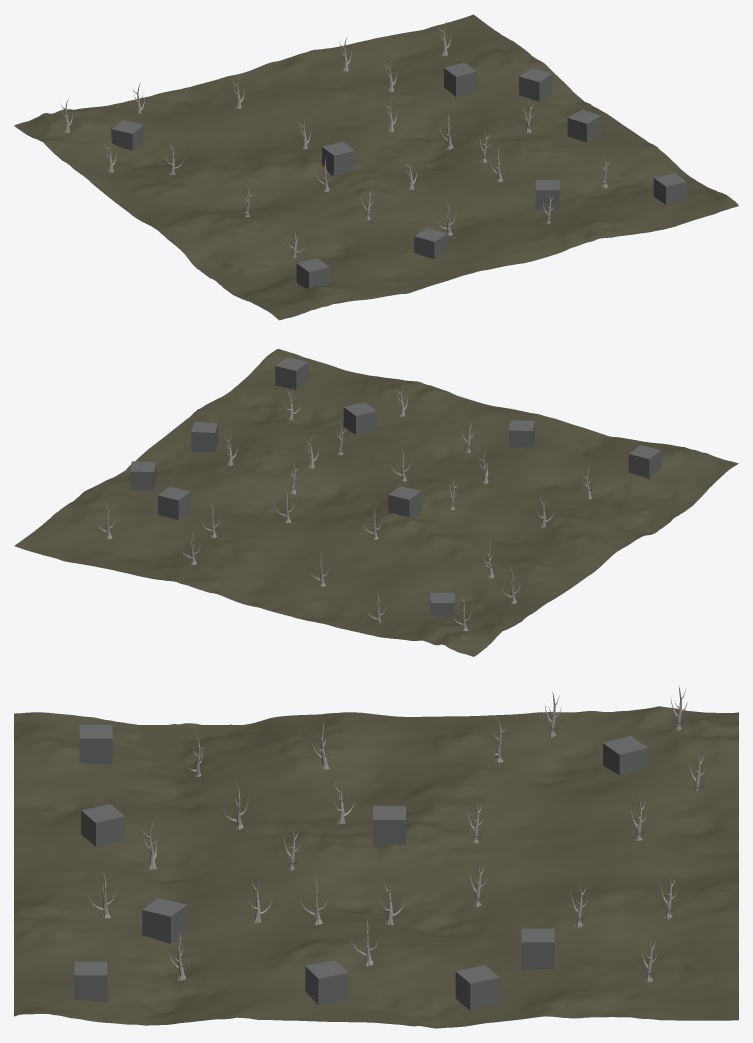
File: test_level.gltf
3 views of the same model, one above another, from view 1: azimuth 30°, elevation 25°; view 2: azimuth 150°, elevation 25°; view 3: azimuth 270°, elevation 25° (orthographic). The views are drawn at different scales.
Visible parts, largest first — view 1: Landscape.002, Cube, Cube.001, Cube.008, Cube.007, Cube.006, Cube.003, Cube.004, Cube.002, Cube.005; view 2: Landscape.002, Cube.005, Cube.003, Cube.001, Cube.006, Cube, Cube.007, Cube.008, Cube.004, Cube.002; view 3: Landscape.002, Cube.005, Cube.008, Cube.007, Cube.004, Cube.001, Cube.002, Cube.003, Cube.006, Cube.
Boxes of the visible parts, box(x1,y1,x2,y2) form: Landscape.002: box(14, 14, 738, 320); Cube: box(322, 142, 354, 176); Cube.001: box(444, 62, 476, 96); Cube.008: box(519, 68, 552, 101); Cube.007: box(567, 109, 601, 142); Cube.006: box(653, 173, 686, 204); Cube.003: box(296, 258, 329, 288); Cube.004: box(414, 228, 447, 259); Cube.002: box(111, 120, 144, 150); Cube.005: box(535, 180, 559, 209); Landscape.002: box(14, 349, 738, 656); Cube.005: box(343, 402, 376, 434); Cube.003: box(628, 445, 661, 478); Cube.001: box(158, 486, 190, 519); Cube.006: box(275, 357, 308, 389); Cube: box(388, 486, 421, 517); Cube.007: box(191, 421, 218, 452); Cube.008: box(130, 461, 155, 490); Cube.004: box(509, 420, 534, 448); Cube.002: box(430, 592, 454, 616); Landscape.002: box(14, 706, 738, 1028); Cube.005: box(142, 898, 187, 943); Cube.008: box(455, 965, 499, 1010); Cube.007: box(305, 960, 348, 1004); Cube.004: box(81, 804, 125, 846); Cube.001: box(521, 928, 554, 969); Cube.002: box(603, 736, 647, 775); Cube.003: box(79, 724, 112, 764); Cube.006: box(74, 961, 107, 1001); Cube: box(373, 806, 405, 847).
Bounding box in the file's own units: 256 × 24.82 × 256.
